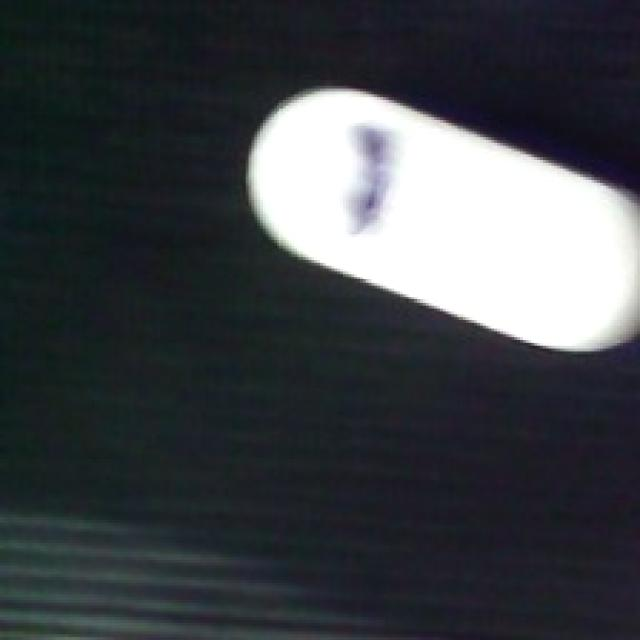defected: (240, 83, 640, 354)
